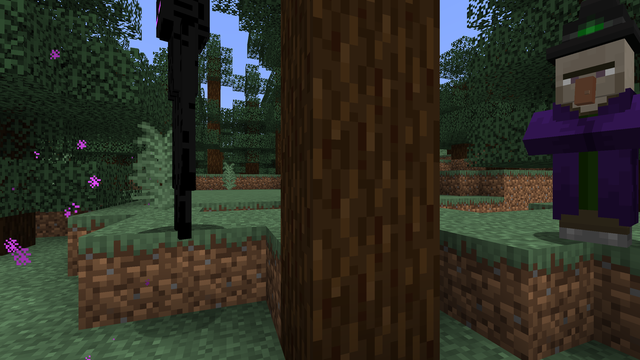endermens: (146, 0, 210, 238)
sorcieres: (540, 26, 637, 251)
